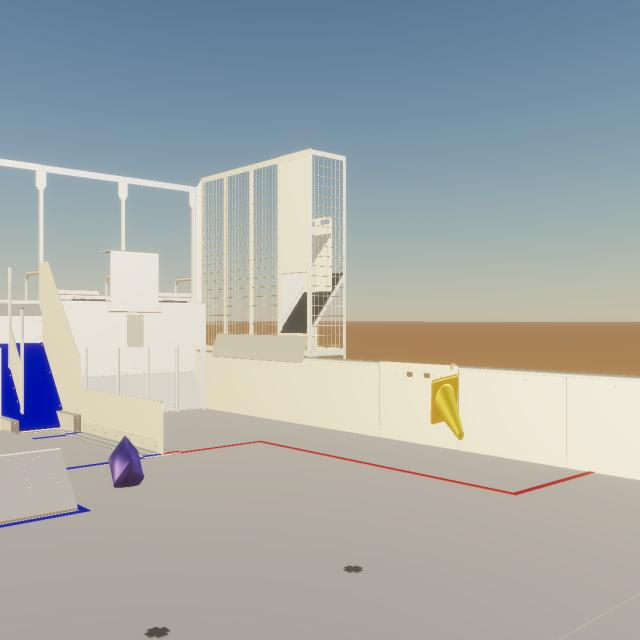frc_cone: (431, 374, 464, 440)
frc_cube: (108, 436, 144, 488)
